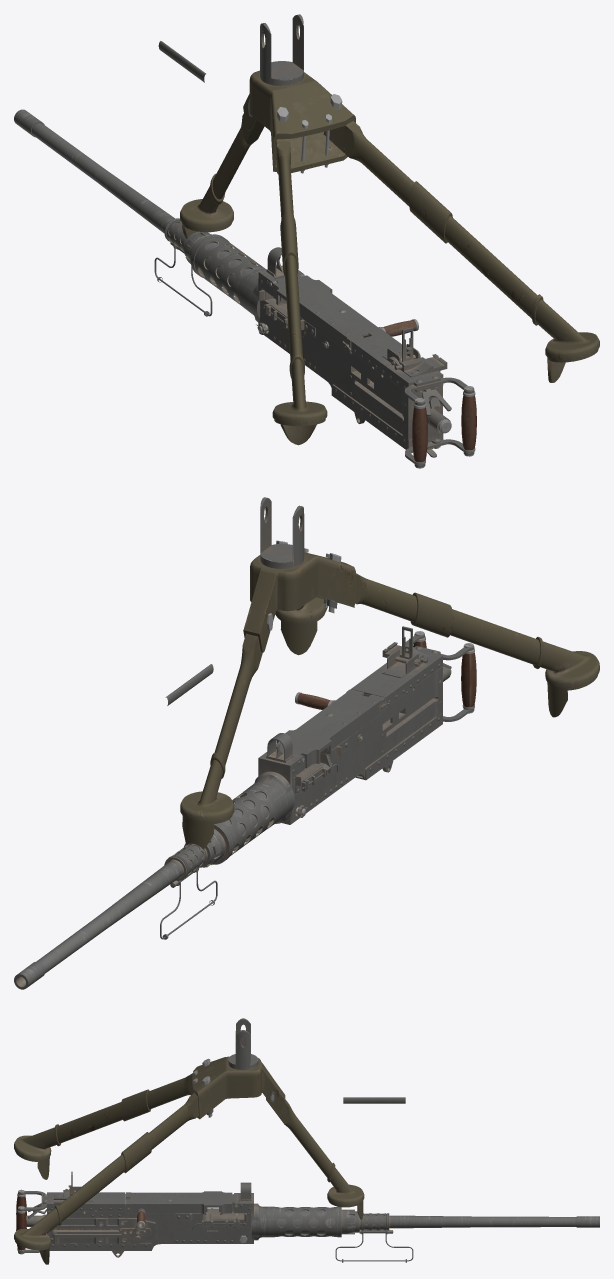
Rendered from browning_m2.glb.
3 renders of one model, top to bottom at view 1: azimuth 30°, elevation 25°; view 2: azimuth 150°, elevation 25°; view 3: azimuth 270°, elevation 25°, orthographic. The views are drawn at different scales.
Parts seen in each view (by area): view 1: M2GunMesh, M2TripodMesh; view 2: M2GunMesh, M2TripodMesh; view 3: M2GunMesh, M2TripodMesh.
Part boxes in pixels (box(x1,y1,x2,y2)): M2GunMesh: box(14, 109, 476, 468); M2TripodMesh: box(158, 14, 599, 445); M2GunMesh: box(14, 626, 476, 989); M2TripodMesh: box(165, 497, 599, 849); M2GunMesh: box(16, 1171, 599, 1262); M2TripodMesh: box(14, 1018, 405, 1264).
Size of the model in its own units: 0.8381 by 0.8749 by 1.95.
2 materials, 2 textured.
